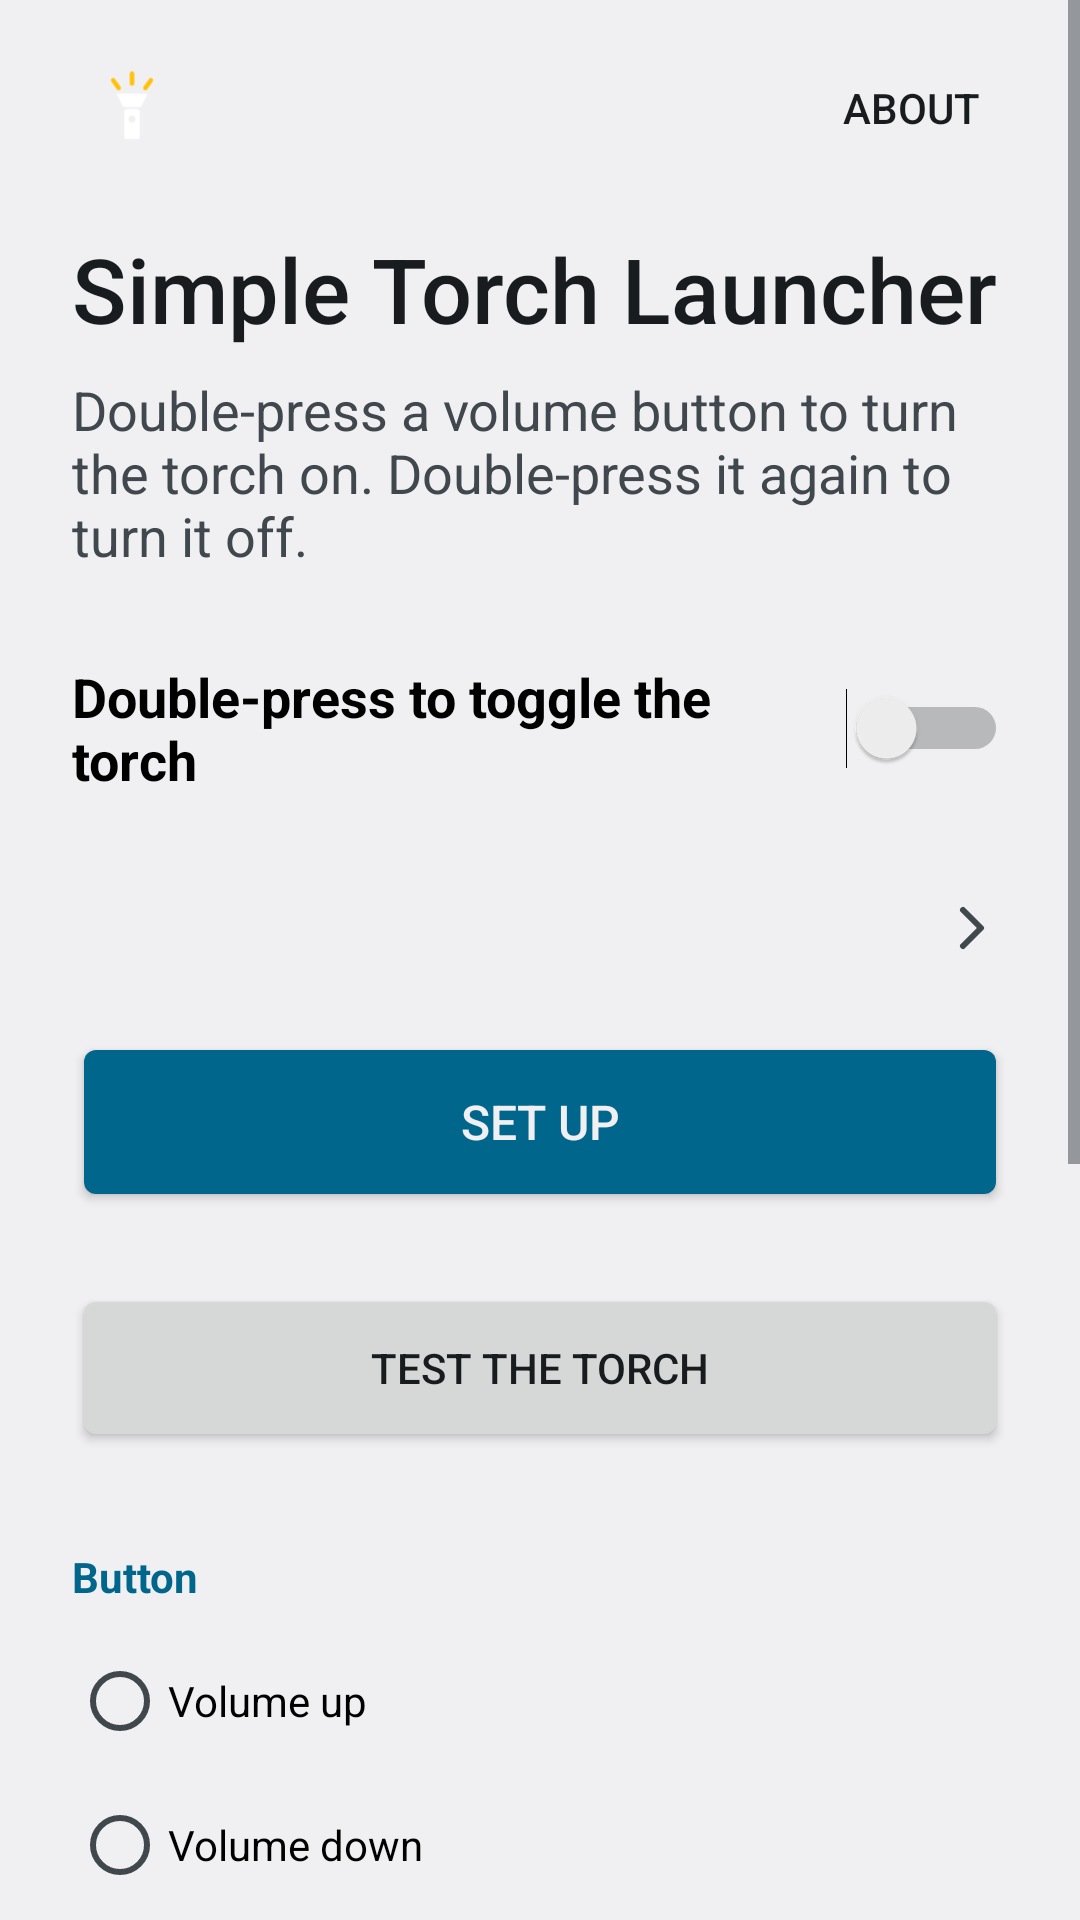

Named icons in this screenshot (1080 x 1920) and their centers, [x,y]:
chevron: [972,928]
